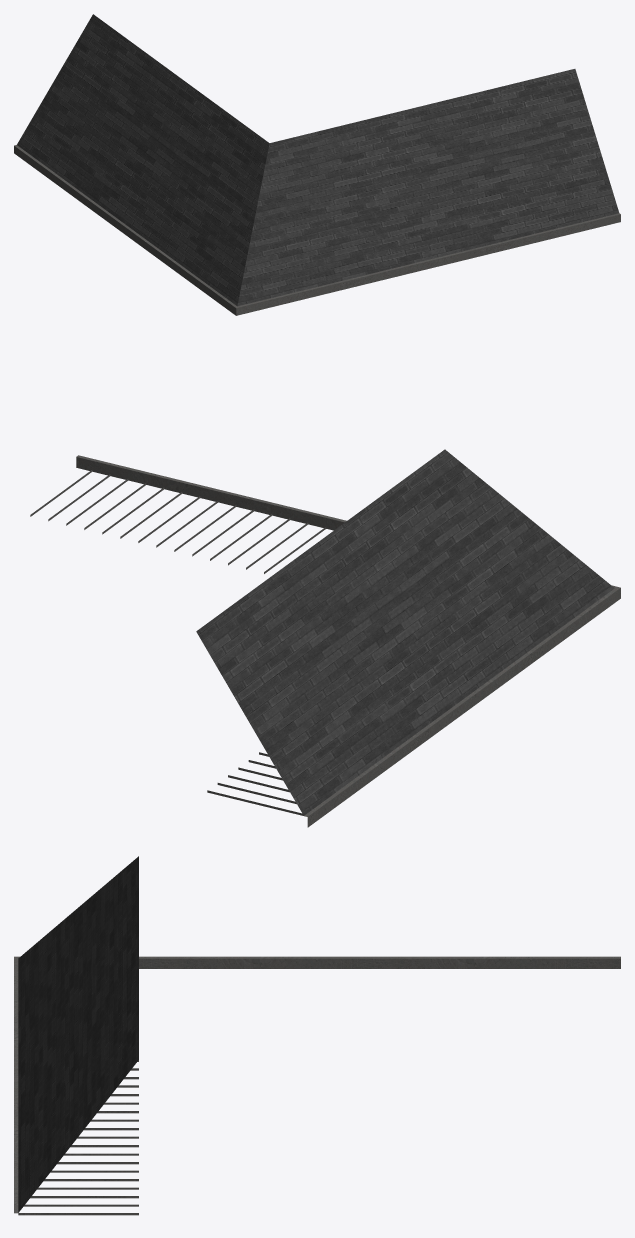
Rendered from Sm_Roof01d02.glb.
3 renders of one model, top to bottom at view 1: azimuth 30°, elevation 25°; view 2: azimuth 150°, elevation 25°; view 3: azimuth 270°, elevation 25°, orthographic. The views are drawn at different scales.
Visible parts, largest first — view 1: Sm_Roof01d02; view 2: Sm_Roof01d02; view 3: Sm_Roof01d02.
Part boxes in pixels (x1,y1,x2,y2): Sm_Roof01d02: (14,14,620,315); Sm_Roof01d02: (30,449,620,827); Sm_Roof01d02: (14,856,620,1215).
Size of the model in its own units: 504 by 150 by 504.
Materials: 2 (2 with a texture image).
